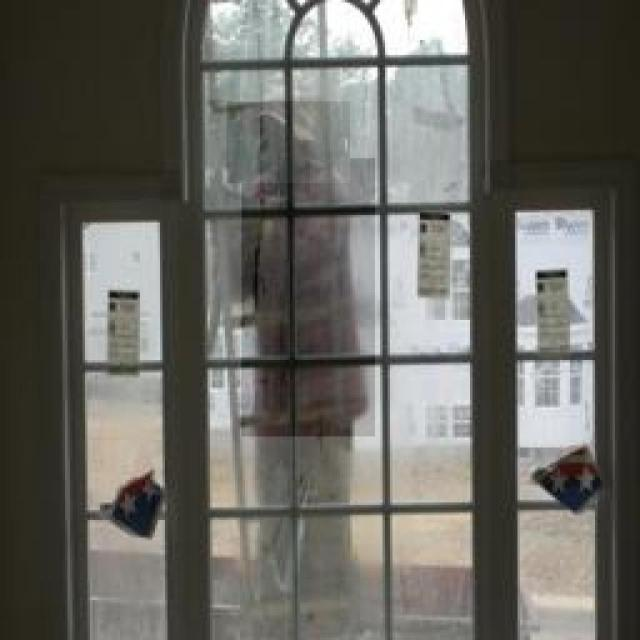Helmet: (241, 158, 375, 436), (226, 102, 350, 184)
